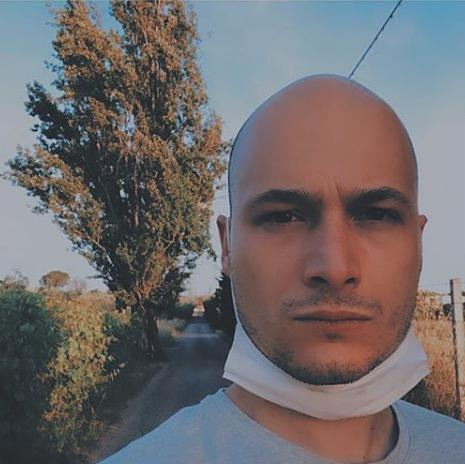mask_weared_incorrect: (227, 161, 415, 411)
